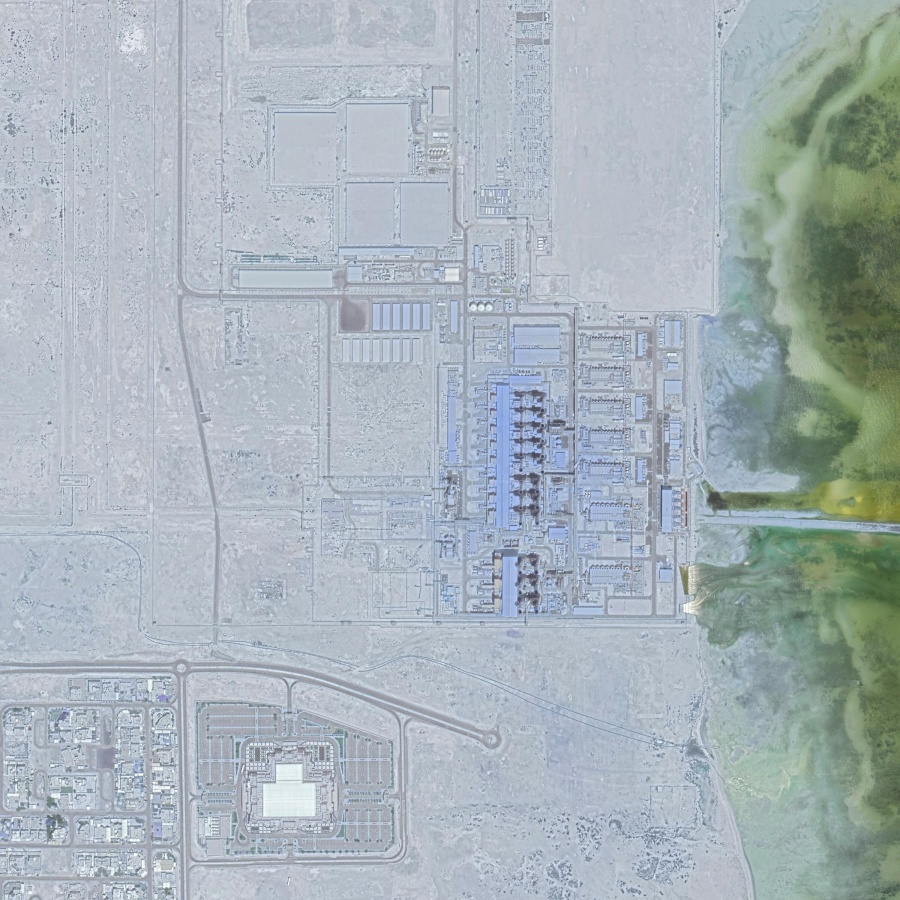PowerPlant: (458, 292, 718, 618)
